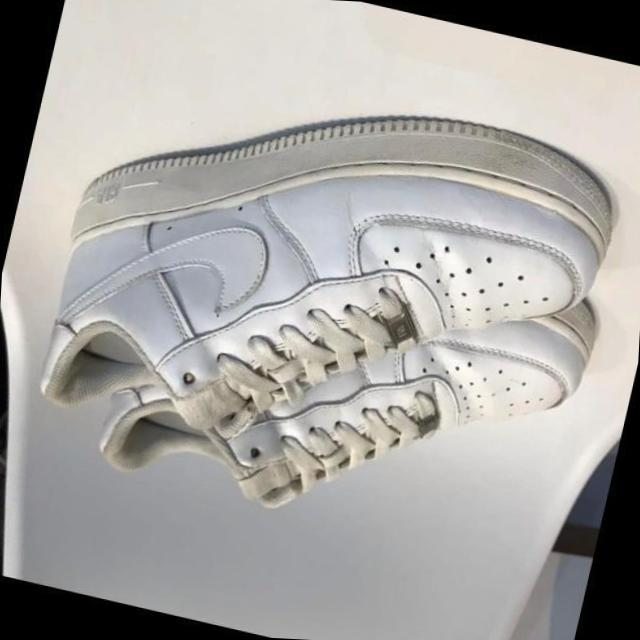nike_original_airforce: (29, 39, 632, 522), (83, 208, 622, 576)
